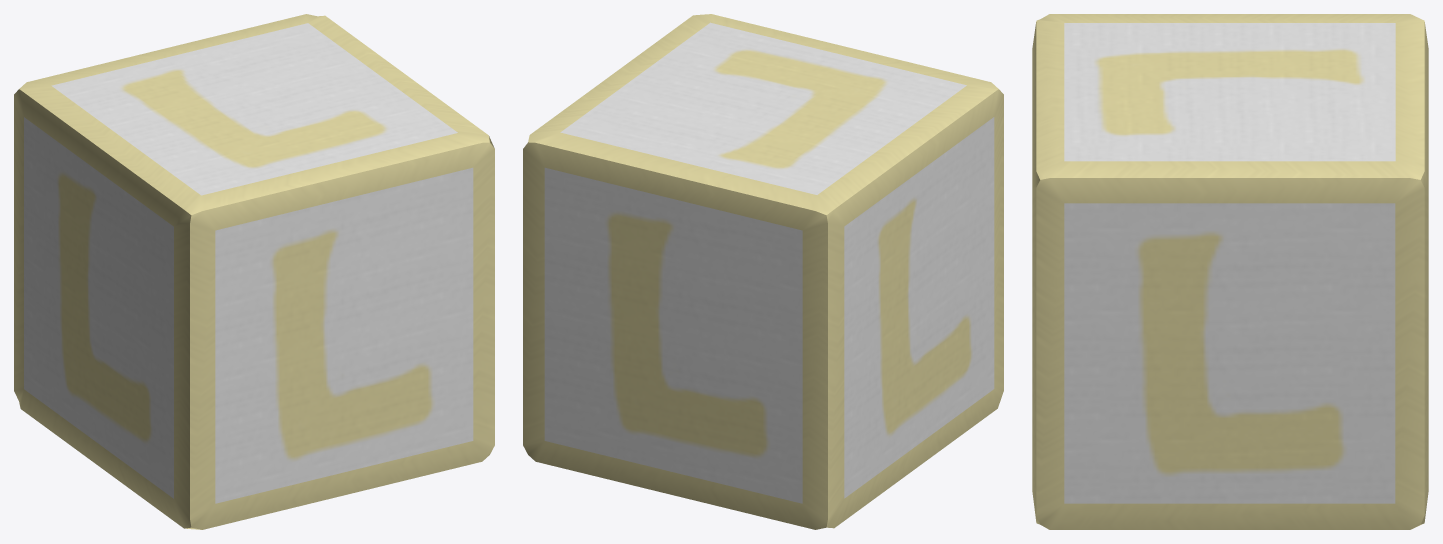
File: BlockL.fbx
The picture shows the model from 3 angles, left to right: view 1: azimuth 30°, elevation 25°; view 2: azimuth 150°, elevation 25°; view 3: azimuth 270°, elevation 25°; orthographic projection. The views are drawn at different scales.
Visible parts, largest first — view 1: pCube1; view 2: pCube1; view 3: pCube1.
Boxes of the visible parts, bbox=[...] form: pCube1: bbox=[14, 14, 494, 529]; pCube1: bbox=[523, 14, 1003, 529]; pCube1: bbox=[1032, 14, 1428, 529].
Bounding box in the file's own units: 9 × 9 × 9.
